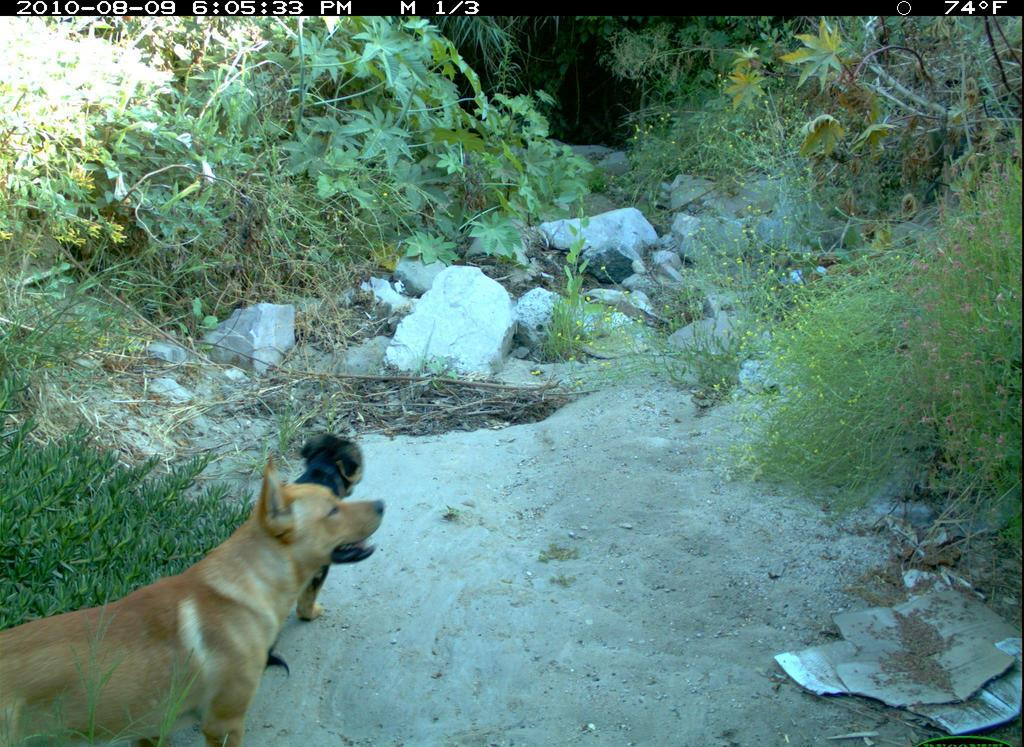dog: (1, 454, 388, 747), (248, 413, 369, 638)
